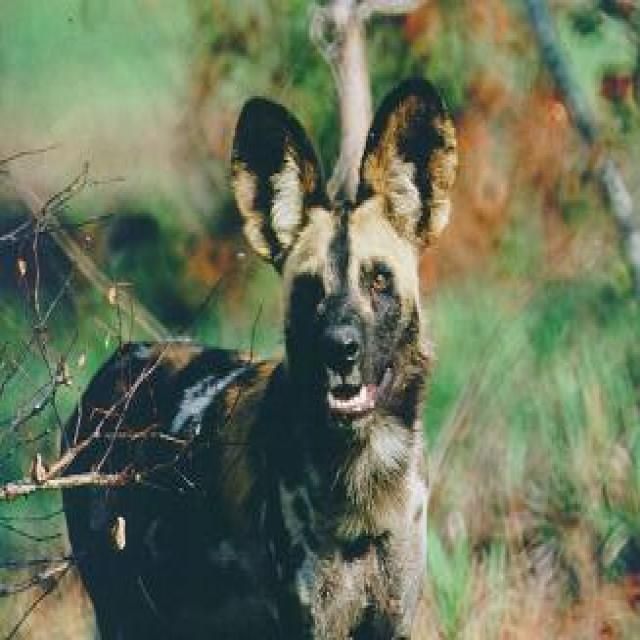angry: (28, 12, 503, 640)
